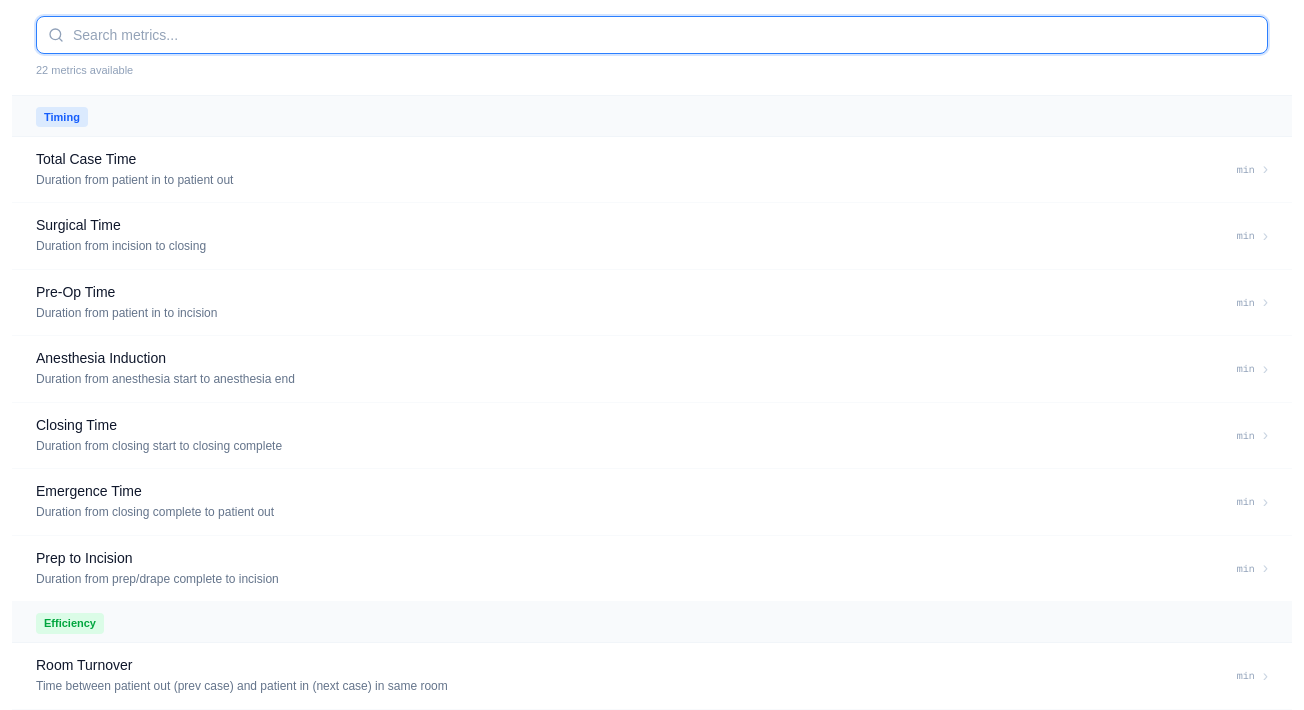
Test: MetricSearchStep › Metric count display › shows singular "metric" when count is 1
Type "implant cost" into the field with placeholder "Search metrics..." at (652, 35), box left=36, top=16, right=1268, bottom=54
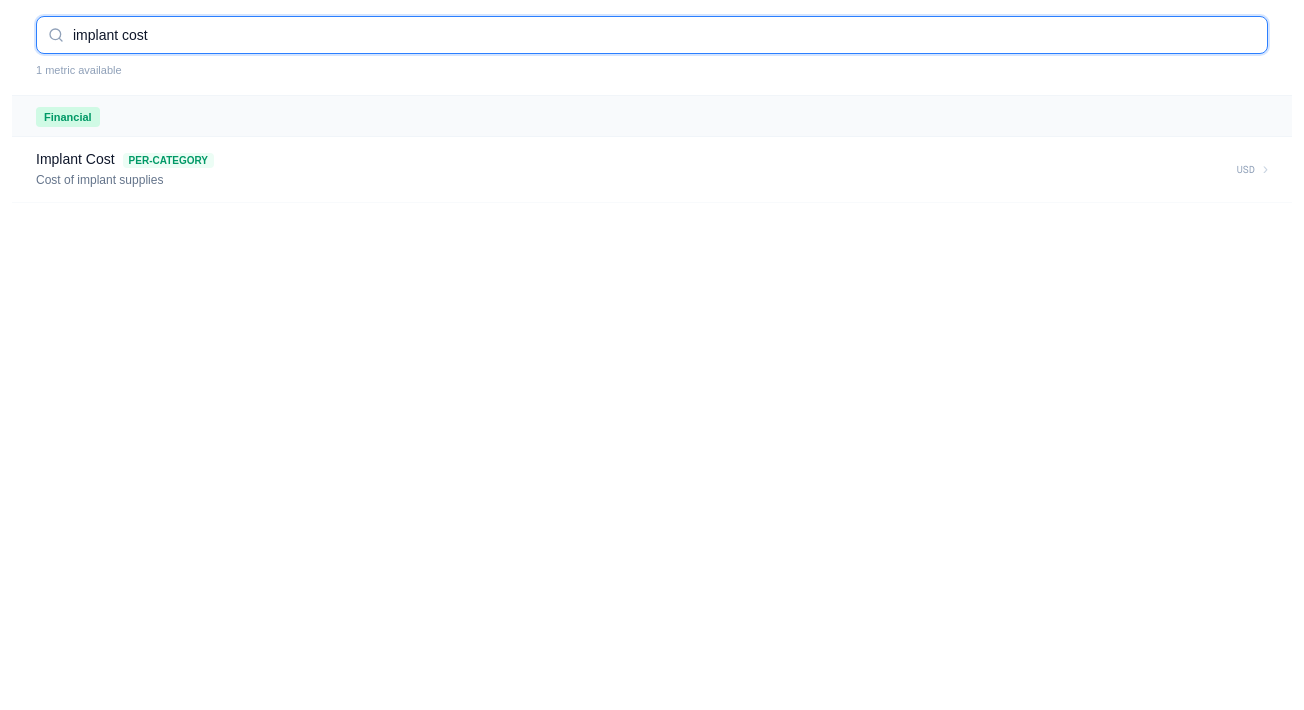
Expected: the text "1 metric available" is shown, left=36, top=64, right=122, bottom=76
